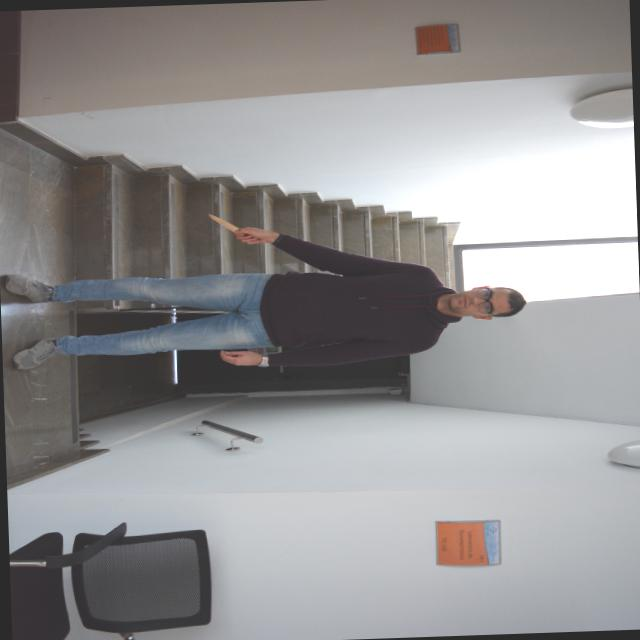knife: (204, 210, 253, 240)
